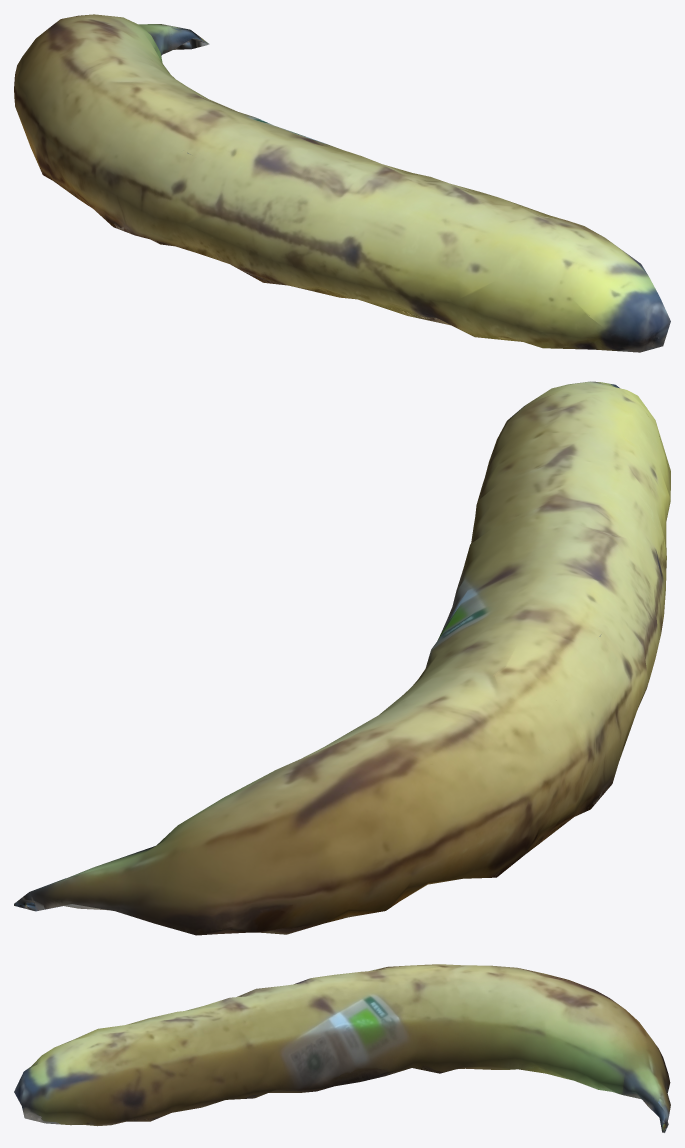
The model's file is banana.gltf.
The picture shows the model from 3 angles, top to bottom: view 1: azimuth 30°, elevation 25°; view 2: azimuth 150°, elevation 25°; view 3: azimuth 270°, elevation 25°; orthographic projection. The views are drawn at different scales.
Parts seen in each view (by area): view 1: Banane.001; view 2: Banane.001; view 3: Banane.001.
Boxes of the visible parts, <box> form: Banane.001: <box>14,14,670,352</box>; Banane.001: <box>14,381,670,935</box>; Banane.001: <box>14,964,670,1132</box>.
Bounding box in the file's own units: 0.0863 × 0.0339 × 0.225.
1 material, 1 textured.
